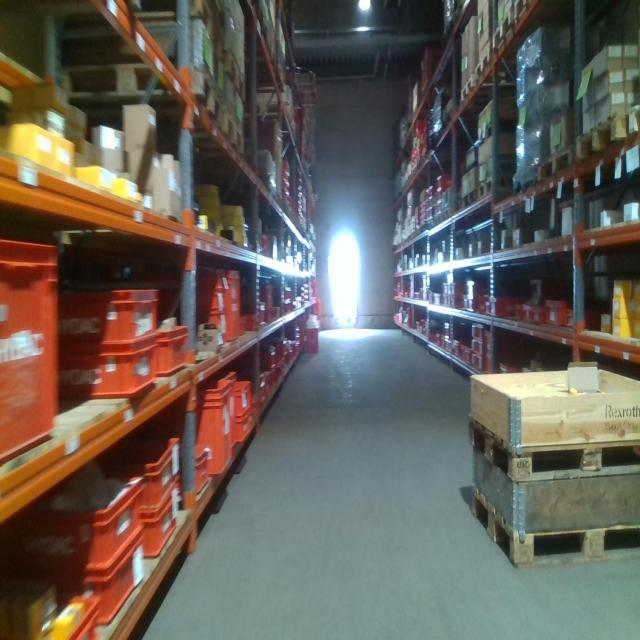pallet: (48, 57, 224, 140), (469, 485, 640, 569), (469, 410, 640, 480), (63, 5, 224, 59), (575, 103, 628, 169), (537, 143, 578, 187), (478, 173, 518, 203), (228, 43, 247, 101), (492, 4, 514, 54), (223, 114, 245, 158), (475, 42, 494, 89), (476, 115, 515, 137), (625, 100, 637, 145), (459, 73, 475, 105), (514, 3, 536, 26), (460, 187, 478, 215)
small_load_carrier: (2, 239, 60, 456), (59, 332, 158, 409), (52, 473, 137, 561), (53, 540, 141, 620), (58, 281, 156, 349), (112, 430, 178, 504), (193, 371, 236, 483), (122, 490, 178, 560), (13, 591, 99, 634), (155, 326, 186, 381), (176, 451, 206, 502), (186, 269, 229, 302), (190, 291, 227, 322), (223, 377, 249, 417), (192, 316, 223, 347), (549, 298, 575, 327), (232, 267, 241, 337), (238, 405, 250, 432), (531, 303, 546, 322)
